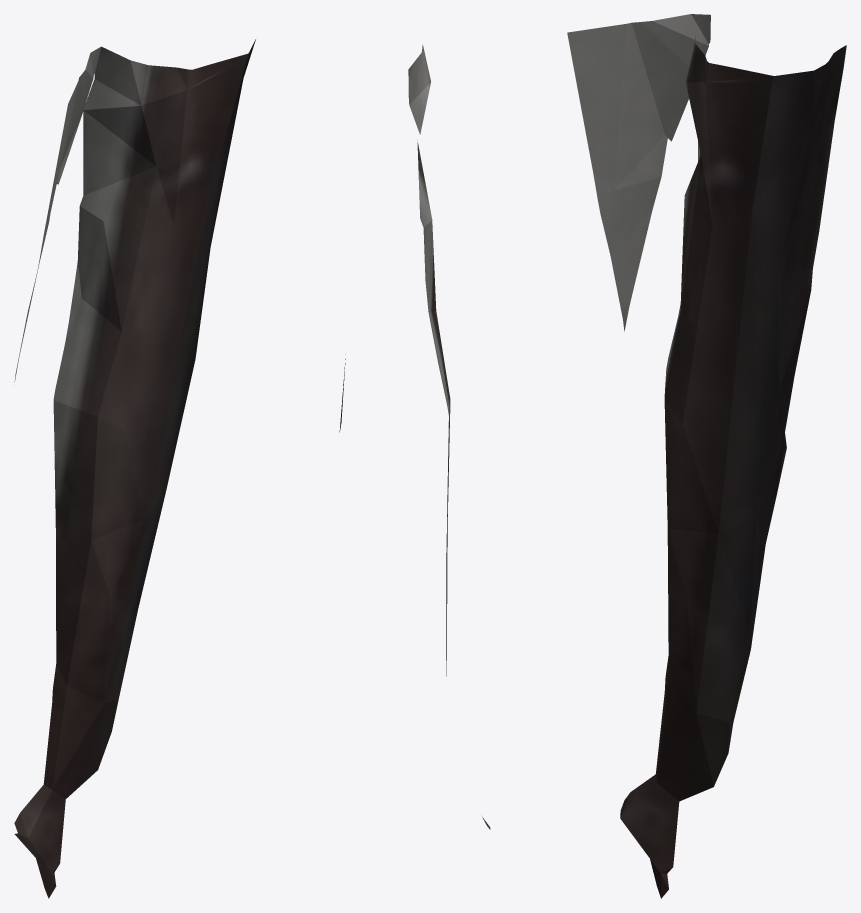
The picture shows the model from 3 angles, left to right: view 1: azimuth 30°, elevation 25°; view 2: azimuth 150°, elevation 25°; view 3: azimuth 330°, elevation 25°; orthographic projection. The views are drawn at different scales.
Size of the model in its own units: 0.2002 by 0.7607 by 0.0878.
Materials: 1 (1 with a texture image).
